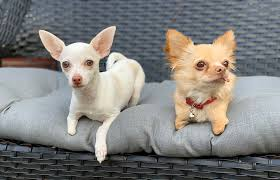Chihuahua: (30, 21, 148, 167), (160, 22, 254, 142)
